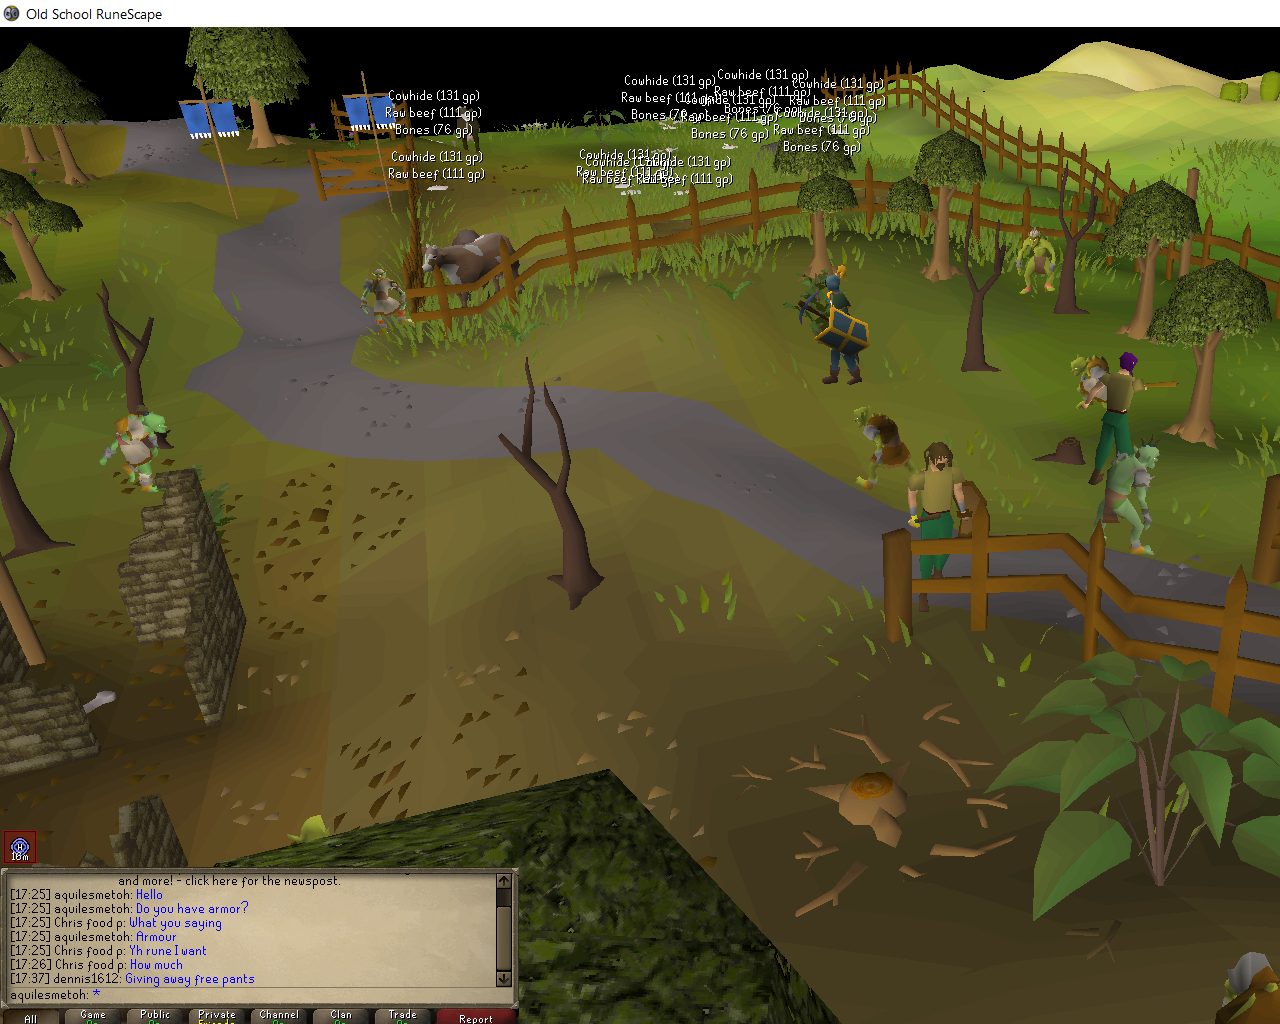Goblin: (1095, 438, 1163, 559), (98, 408, 172, 494), (851, 408, 920, 491), (1013, 227, 1061, 297), (356, 265, 408, 328), (1071, 354, 1123, 413), (282, 810, 343, 845)
